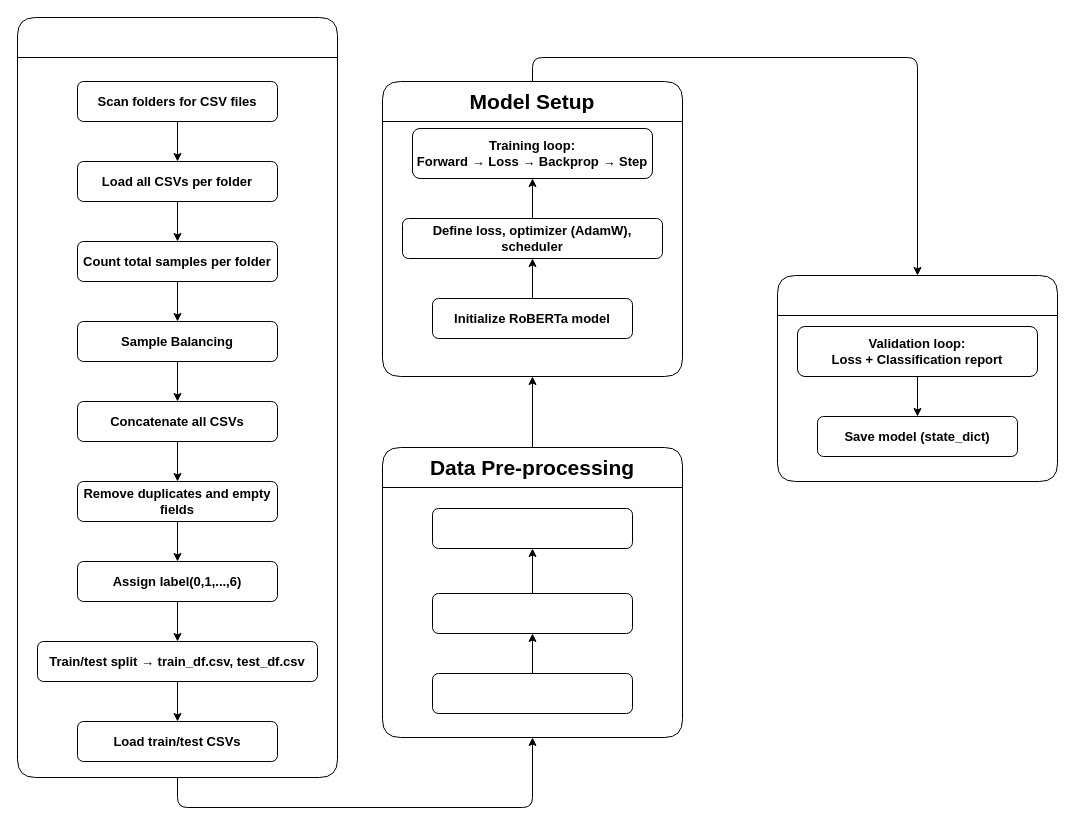
Image size: 1075x833. Some labels were removed from this diagram. Here are the shapes that lost their labels. From the top down, the centre of each, then its label:
At point 177,397: "Data Preparation".
At point 917,378: "Validation / Evaluation".
At point 532,528: "Create TensorDatasets & DataLoaders".
At point 532,613: "Tokenize using RoBERTa tokenizer".
At point 532,693: "Preprocess text & labels".
